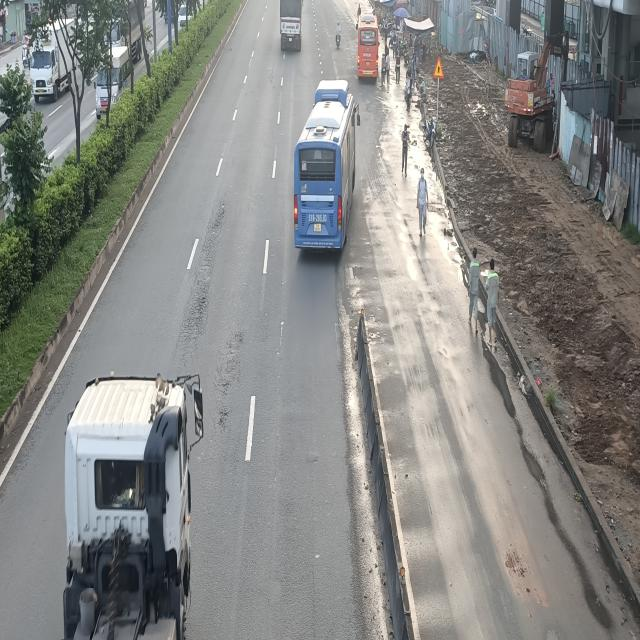coach: (294, 78, 361, 253), (356, 11, 381, 84)
container: (38, 372, 203, 640)
truck: (278, 0, 303, 50)
